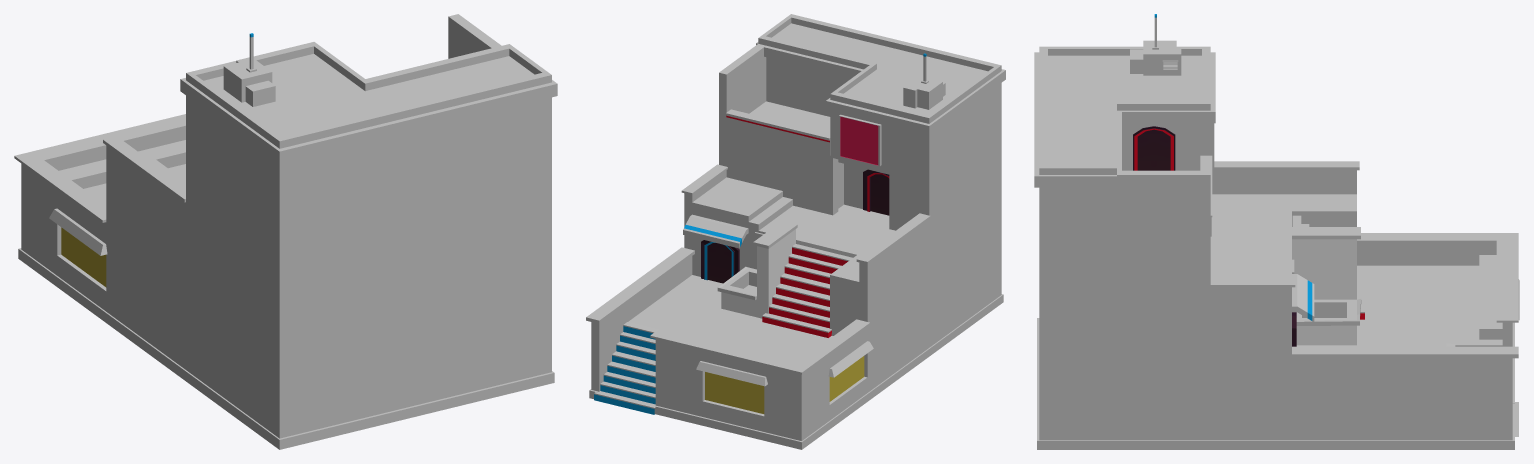
The model's file is Building_Apartment01.fbx.
3 views of the same model, side by side, from view 1: azimuth 30°, elevation 25°; view 2: azimuth 150°, elevation 25°; view 3: azimuth 270°, elevation 25° (orthographic). The views are drawn at different scales.
Parts seen in each view (by area): view 1: Radar Guy; view 2: Radar Guy; view 3: Radar Guy.
Boxes of the visible parts, x1,y1,x2,y2 form: Radar Guy: (14, 14, 557, 449); Radar Guy: (586, 14, 1005, 449); Radar Guy: (1034, 14, 1519, 449).
Size of the model in its own units: 779 by 946 by 1264.
